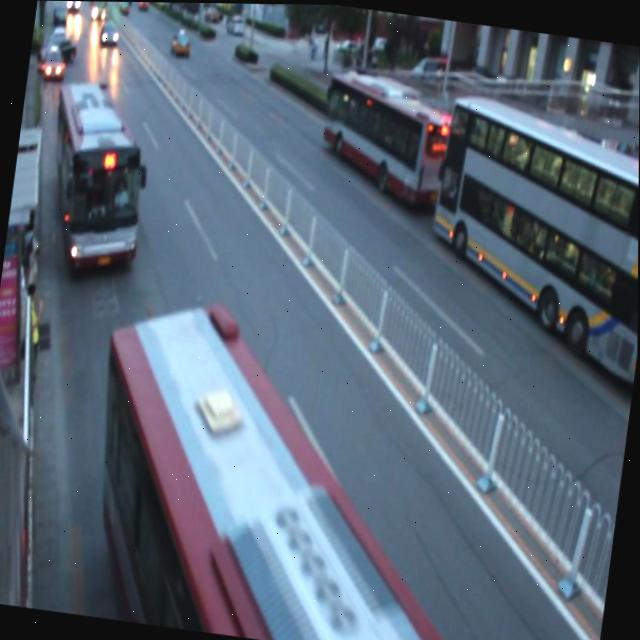car: (41, 44, 68, 83)
van: (73, 301, 516, 640), (417, 90, 640, 382), (37, 78, 155, 275), (315, 71, 461, 213)
